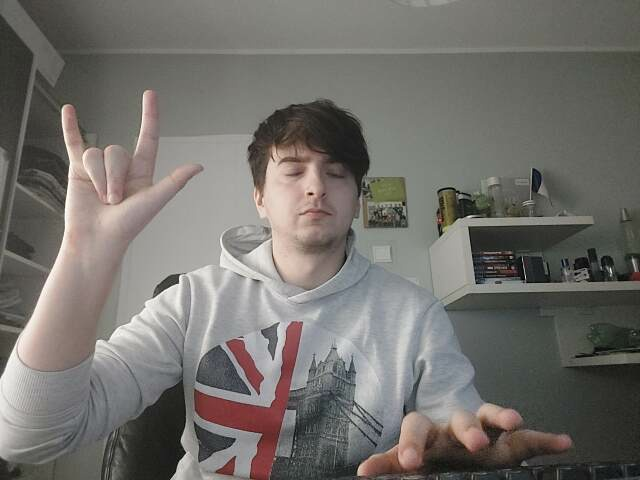love_you: (60, 90, 204, 233)
